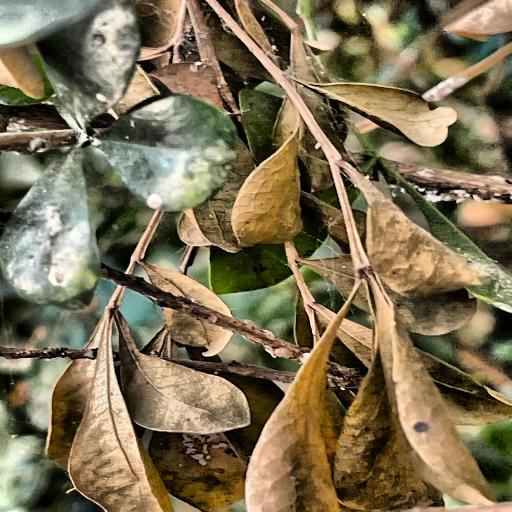la heo: (71, 24, 483, 486)
